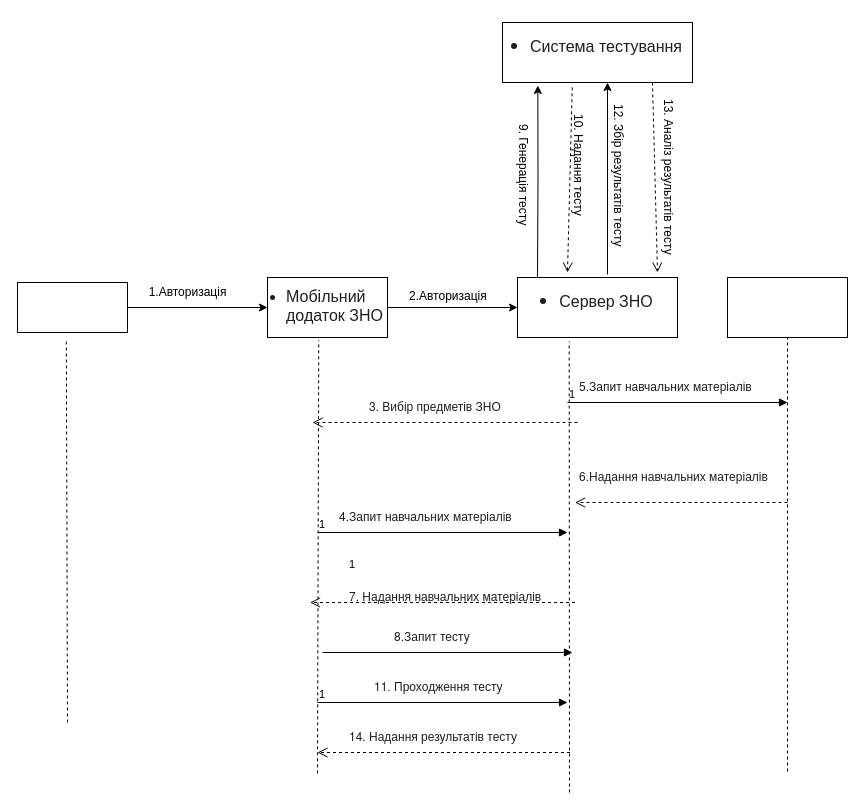
Some shapes in this 865 by 811 pixel diagram are drawn without their labels. The shapes that lost their labels are listed below. From the top down, each one's centre as x and y in pixels, then its label:
At (72,307): "Випускник".
At (787,307): "Система навчальних матеріалів".
